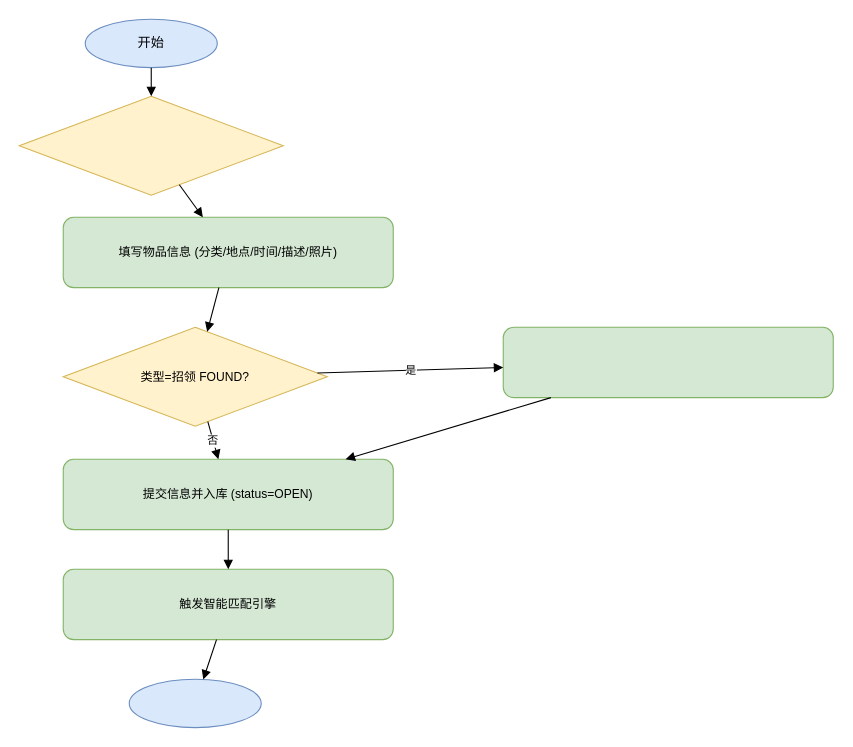
Image size: 853x747. Some labels were removed from this diagram. Here are the shapes that lost their labels. From the top down, the box of each, then its label:
(18, 95, 283, 195): 选择发布类型 失物LOST / 招领FOUND
(502, 326, 833, 398): 强制填写隐藏特征 (加密存储)
(128, 678, 261, 728): 结束
